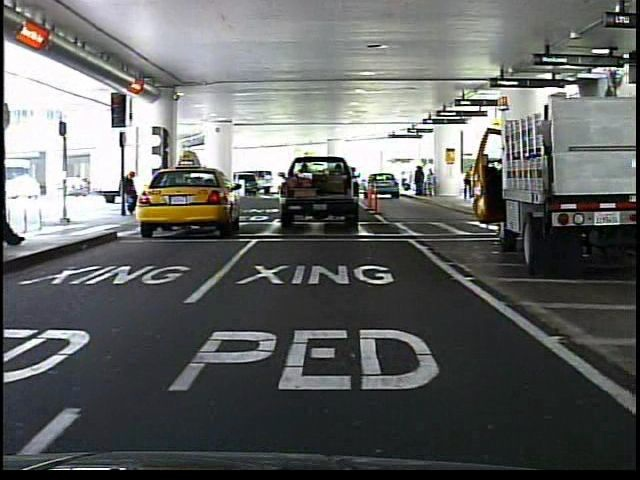person: (122, 165, 145, 221)
